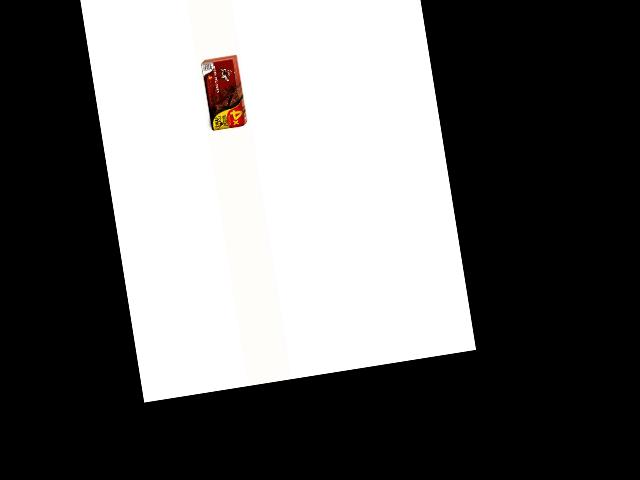chocolate: (199, 56, 247, 132)
